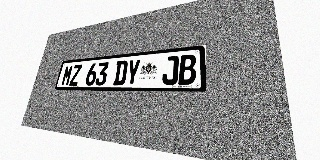3: (95, 62, 109, 85)
6: (85, 63, 99, 86)
B: (178, 54, 196, 85)
D: (113, 60, 128, 85)
J: (161, 56, 179, 85)
M: (61, 65, 74, 86)
Y: (125, 59, 141, 85)
Z: (69, 64, 82, 86)
